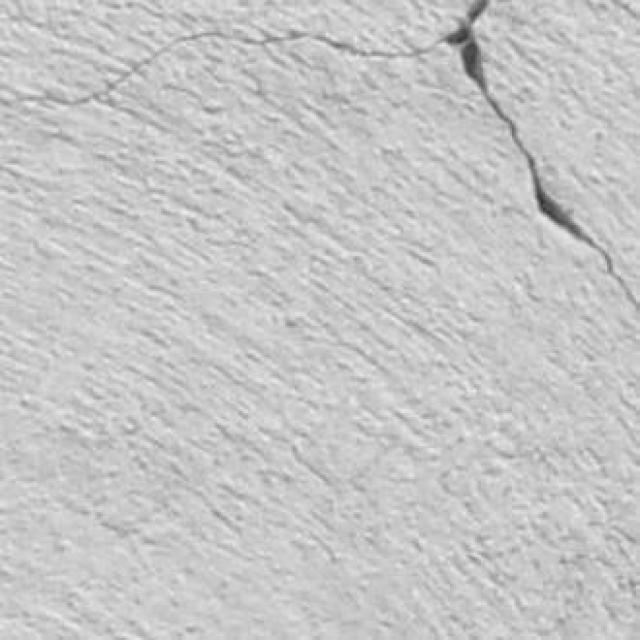crack: (10, 0, 639, 312), (447, 0, 639, 312), (14, 30, 446, 106)
